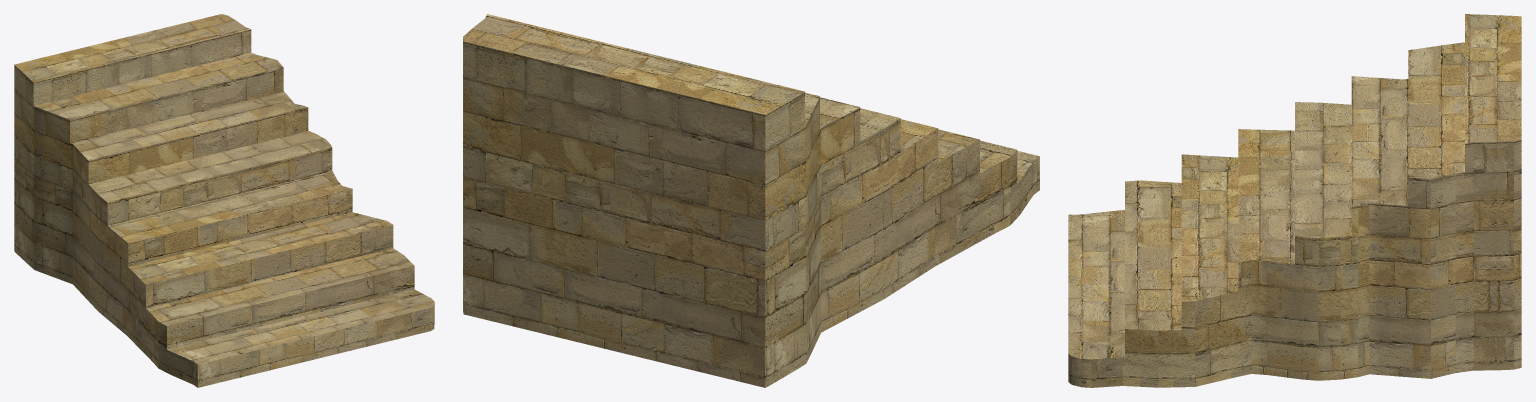
The model's file is egyptian_steps.glb.
The picture shows the model from 3 angles, left to right: view 1: azimuth 30°, elevation 25°; view 2: azimuth 150°, elevation 25°; view 3: azimuth 270°, elevation 25°; orthographic projection. The views are drawn at different scales.
Visible parts, largest first — view 1: Object_2; view 2: Object_2; view 3: Object_2.
Part boxes in pixels (x1,y1,x2,y2): Object_2: (14, 14, 434, 387); Object_2: (463, 14, 1039, 387); Object_2: (1068, 14, 1521, 387).
Size of the model in its own units: 1.7 by 1.2 by 2.16.
Materials: 1 (1 with a texture image).
